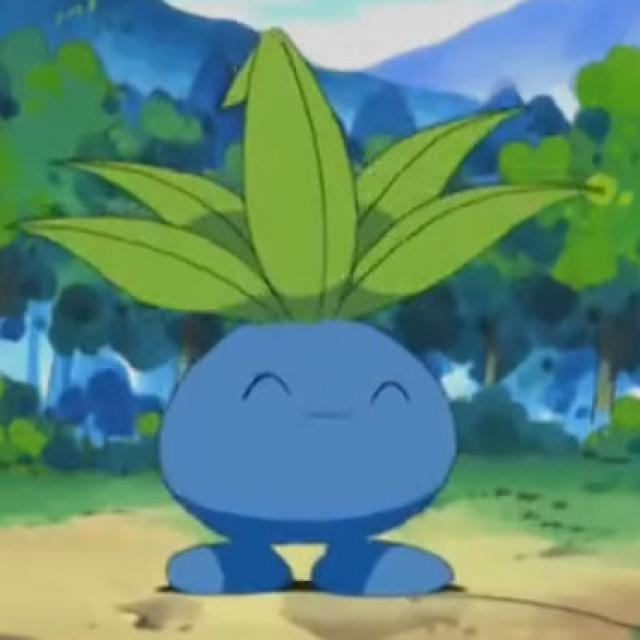Oddish: (134, 122, 476, 607)
